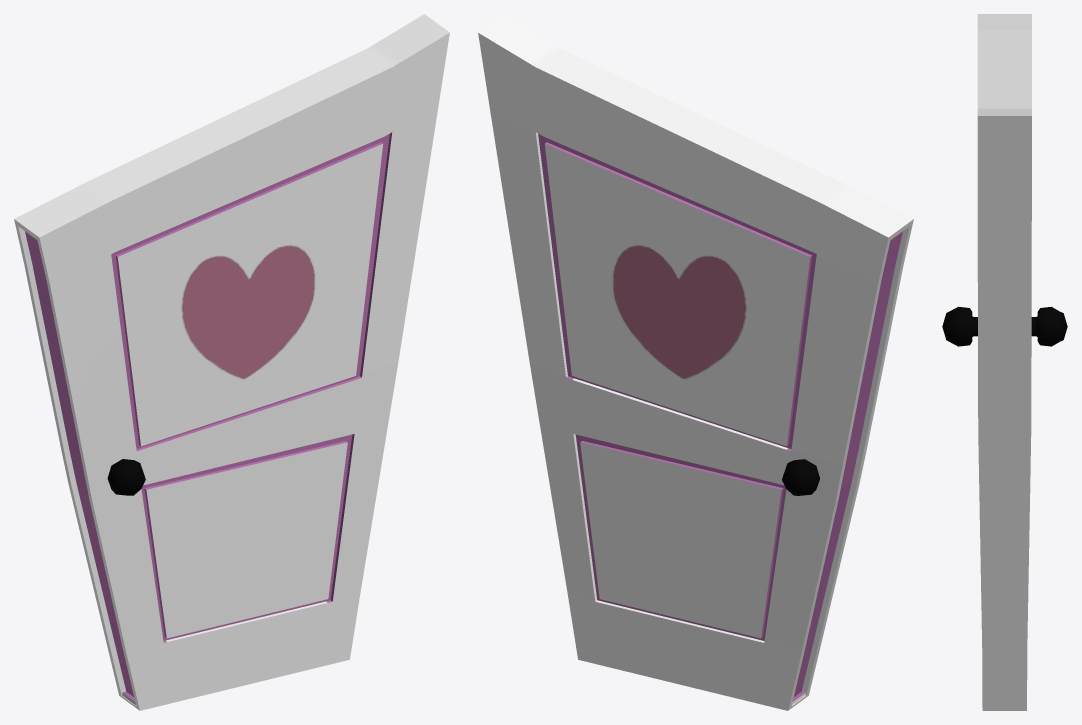
File: door.fbx
The picture shows the model from 3 angles, left to right: view 1: azimuth 30°, elevation 25°; view 2: azimuth 150°, elevation 25°; view 3: azimuth 270°, elevation 25°; orthographic projection. The views are drawn at different scales.
Parts seen in each view (by area): view 1: g pCube1_pCube1; view 2: g pCube1_pCube1; view 3: g pCube1_pCube1.
Boxes of the visible parts, bbox=[...] form: g pCube1_pCube1: bbox=[14, 14, 449, 710]; g pCube1_pCube1: bbox=[478, 14, 913, 710]; g pCube1_pCube1: bbox=[942, 14, 1067, 710].
Size of the model in its own units: 262 by 369 by 64.88.
1 material, 1 textured.
